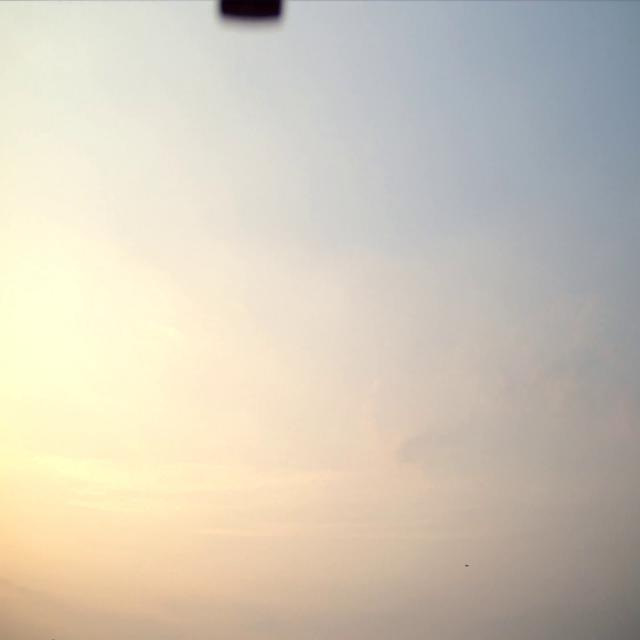drone: (466, 564, 470, 567)
